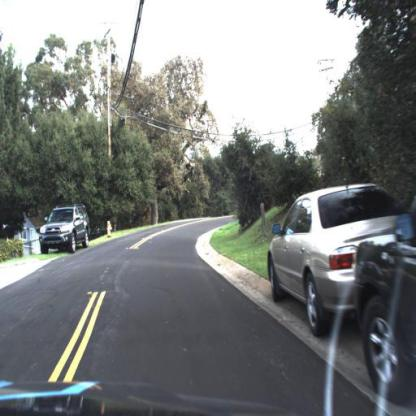car: (266, 180, 416, 329), (36, 198, 98, 267)
